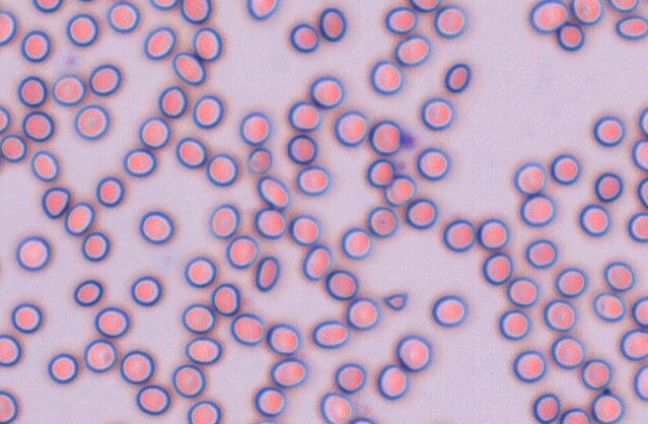PLT: (403, 130, 417, 151), (396, 161, 408, 173), (66, 55, 75, 67)
RBC: (395, 334, 433, 372), (73, 103, 110, 140), (334, 109, 369, 147), (529, 0, 569, 33), (369, 59, 404, 95), (15, 235, 50, 271), (171, 363, 206, 398), (119, 349, 154, 384), (368, 119, 402, 155), (138, 210, 174, 244), (394, 34, 432, 66), (269, 357, 308, 388), (171, 51, 206, 85), (433, 4, 468, 38), (376, 363, 409, 399), (519, 193, 555, 226), (431, 294, 467, 327), (256, 175, 290, 209), (83, 338, 117, 372), (551, 335, 585, 369), (420, 96, 454, 130), (590, 390, 625, 423), (512, 349, 547, 382), (416, 147, 451, 180), (229, 312, 264, 345), (309, 75, 344, 108), (345, 297, 380, 330), (51, 73, 86, 106), (295, 164, 331, 196), (301, 244, 332, 281), (311, 319, 349, 349), (226, 234, 259, 268), (143, 26, 176, 60), (205, 152, 238, 186), (106, 0, 140, 33), (543, 298, 576, 332), (442, 218, 475, 252), (266, 323, 301, 355), (94, 306, 129, 338), (209, 203, 240, 239), (184, 336, 222, 365), (513, 162, 546, 195), (138, 116, 171, 149), (476, 217, 509, 250), (88, 63, 121, 96), (578, 203, 611, 236), (319, 391, 353, 423), (135, 384, 170, 415), (383, 174, 416, 206), (253, 207, 286, 239), (325, 268, 358, 300), (405, 197, 438, 229), (289, 213, 321, 246), (183, 255, 216, 287), (66, 13, 98, 46), (21, 110, 54, 142), (287, 100, 321, 131), (592, 291, 626, 322), (64, 201, 95, 235), (239, 111, 270, 145), (192, 94, 223, 128), (192, 26, 222, 61), (181, 303, 216, 333), (580, 358, 612, 390), (340, 227, 372, 259), (366, 205, 398, 237), (175, 136, 207, 168), (506, 276, 539, 307), (482, 252, 513, 285), (20, 29, 51, 62), (254, 386, 286, 417), (334, 362, 366, 393), (10, 302, 42, 333), (498, 309, 530, 340), (130, 275, 162, 306), (603, 261, 635, 292), (550, 153, 581, 185), (593, 115, 625, 146), (123, 147, 156, 177), (211, 282, 240, 316), (47, 352, 78, 383), (555, 267, 587, 297), (41, 186, 71, 218), (30, 149, 60, 181), (17, 75, 47, 107), (525, 238, 557, 268), (158, 85, 187, 118), (318, 7, 346, 41), (254, 255, 280, 291), (286, 134, 317, 164), (619, 328, 647, 361), (384, 6, 417, 34), (366, 158, 396, 188), (289, 22, 319, 52), (95, 176, 124, 207), (81, 231, 110, 261), (594, 172, 623, 202), (532, 392, 560, 423), (556, 21, 584, 51), (615, 14, 647, 40), (187, 399, 221, 423), (444, 62, 471, 92), (570, 0, 602, 25), (0, 133, 27, 162), (73, 279, 102, 306), (246, 146, 272, 174), (180, 0, 211, 23), (0, 333, 21, 366), (246, 0, 279, 20), (627, 211, 647, 242), (0, 9, 17, 45), (0, 390, 18, 423), (631, 138, 647, 172), (633, 364, 647, 401), (559, 407, 591, 423), (631, 295, 647, 327), (408, 0, 441, 12), (608, 0, 639, 12), (32, 0, 63, 12), (636, 176, 647, 208), (0, 105, 11, 133), (148, 0, 178, 10), (638, 106, 647, 137), (347, 416, 377, 423), (252, 418, 279, 423), (74, 0, 97, 2)
Schistocyte: (384, 292, 408, 311)
